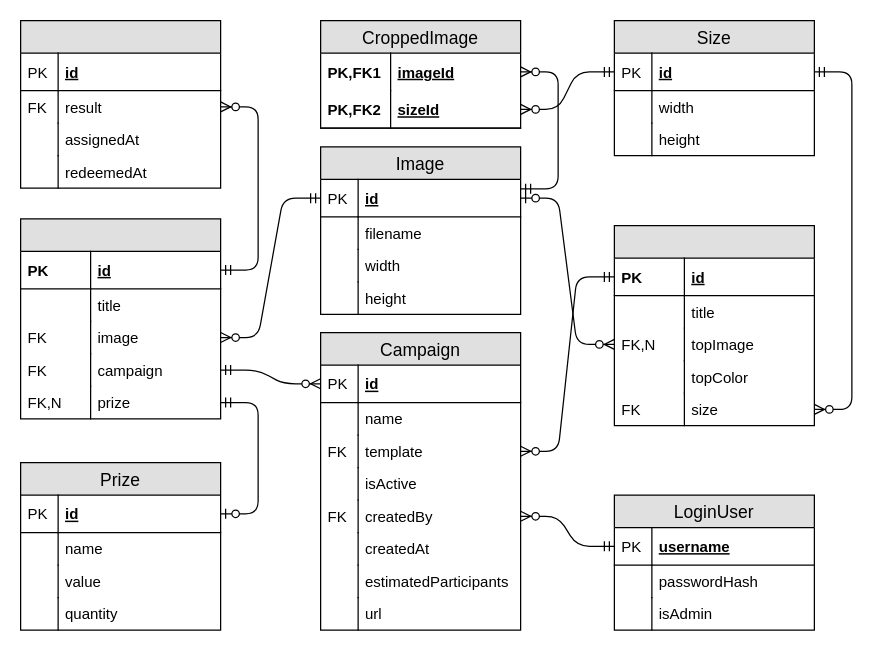
The diagram is 873 pixels wide and 650 high, and some of its shapes have lost their labels. Here are the shapes that lost their labels. From the top down, the box of each, then its label:
(19, 19, 221, 188): Participant
(19, 218, 221, 419): CardResult
(613, 224, 814, 426): CardTemplate
